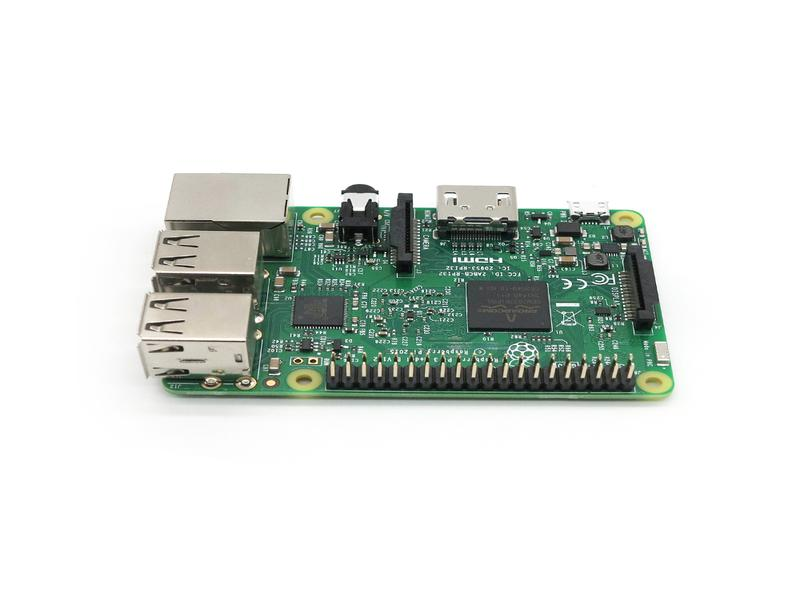Raspberry_Pi_3: (125, 159, 679, 413)
